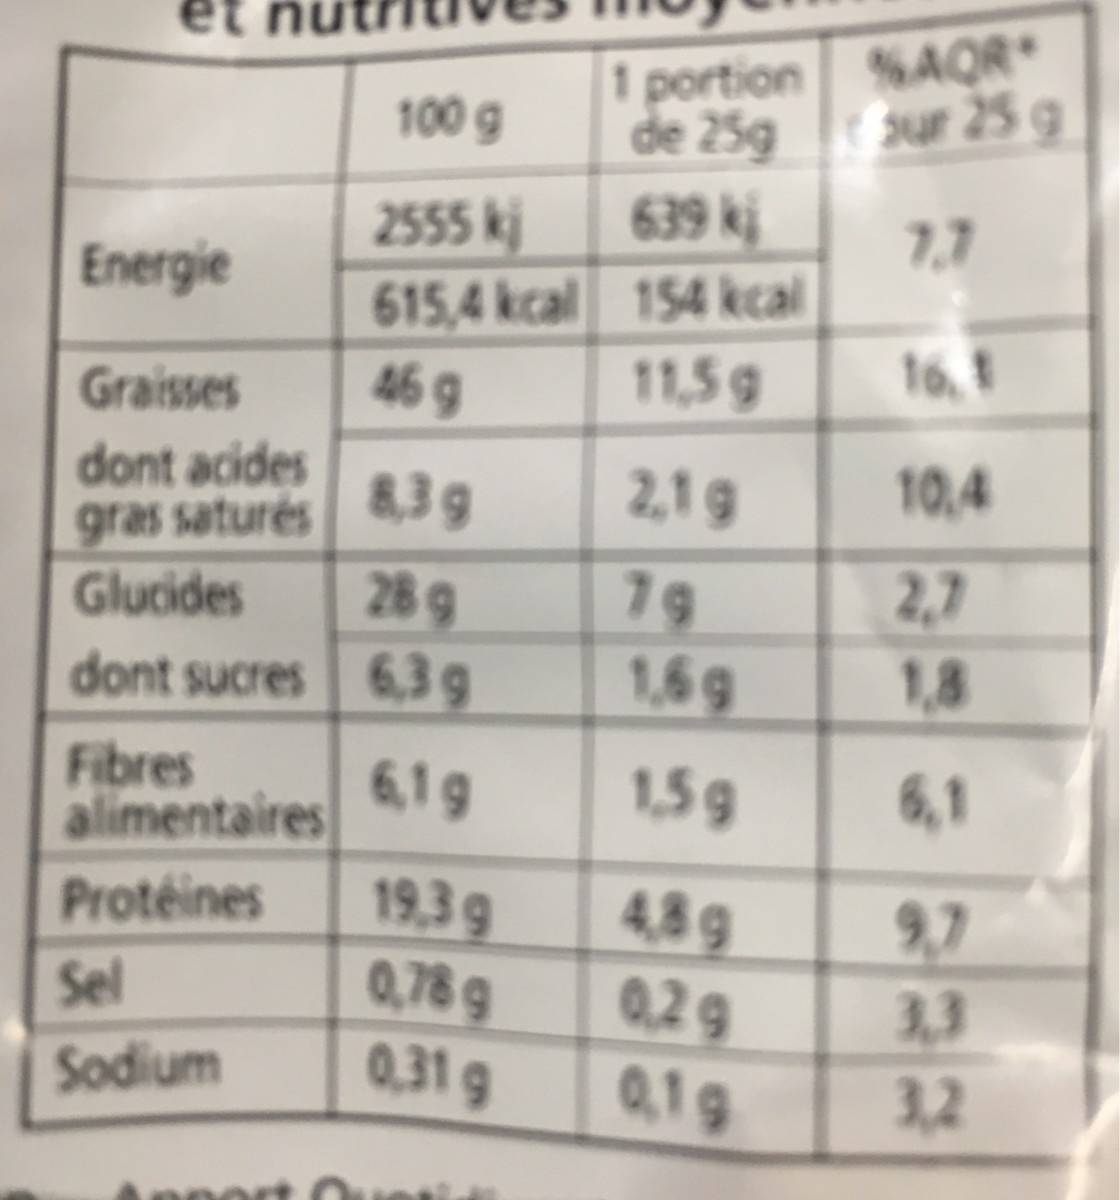column: (851, 39, 1065, 1141), (58, 236, 324, 1104), (363, 96, 583, 1116), (615, 56, 805, 1129)
table: (21, 16, 1107, 1172)
